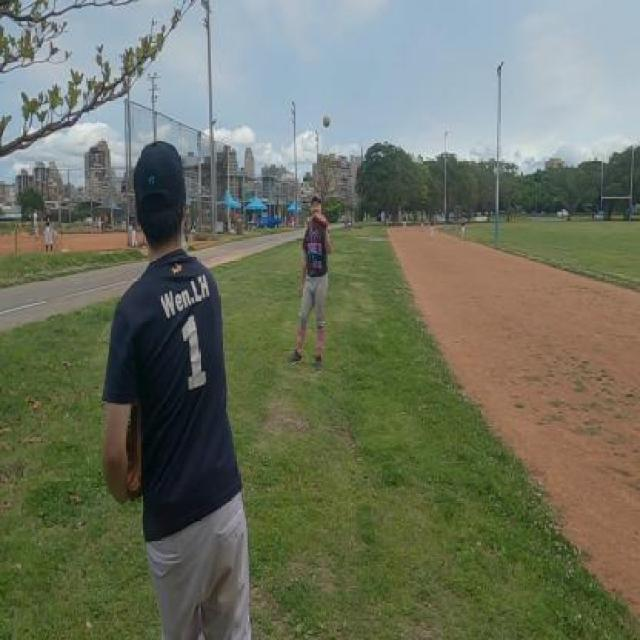baseball: (323, 114, 331, 128)
